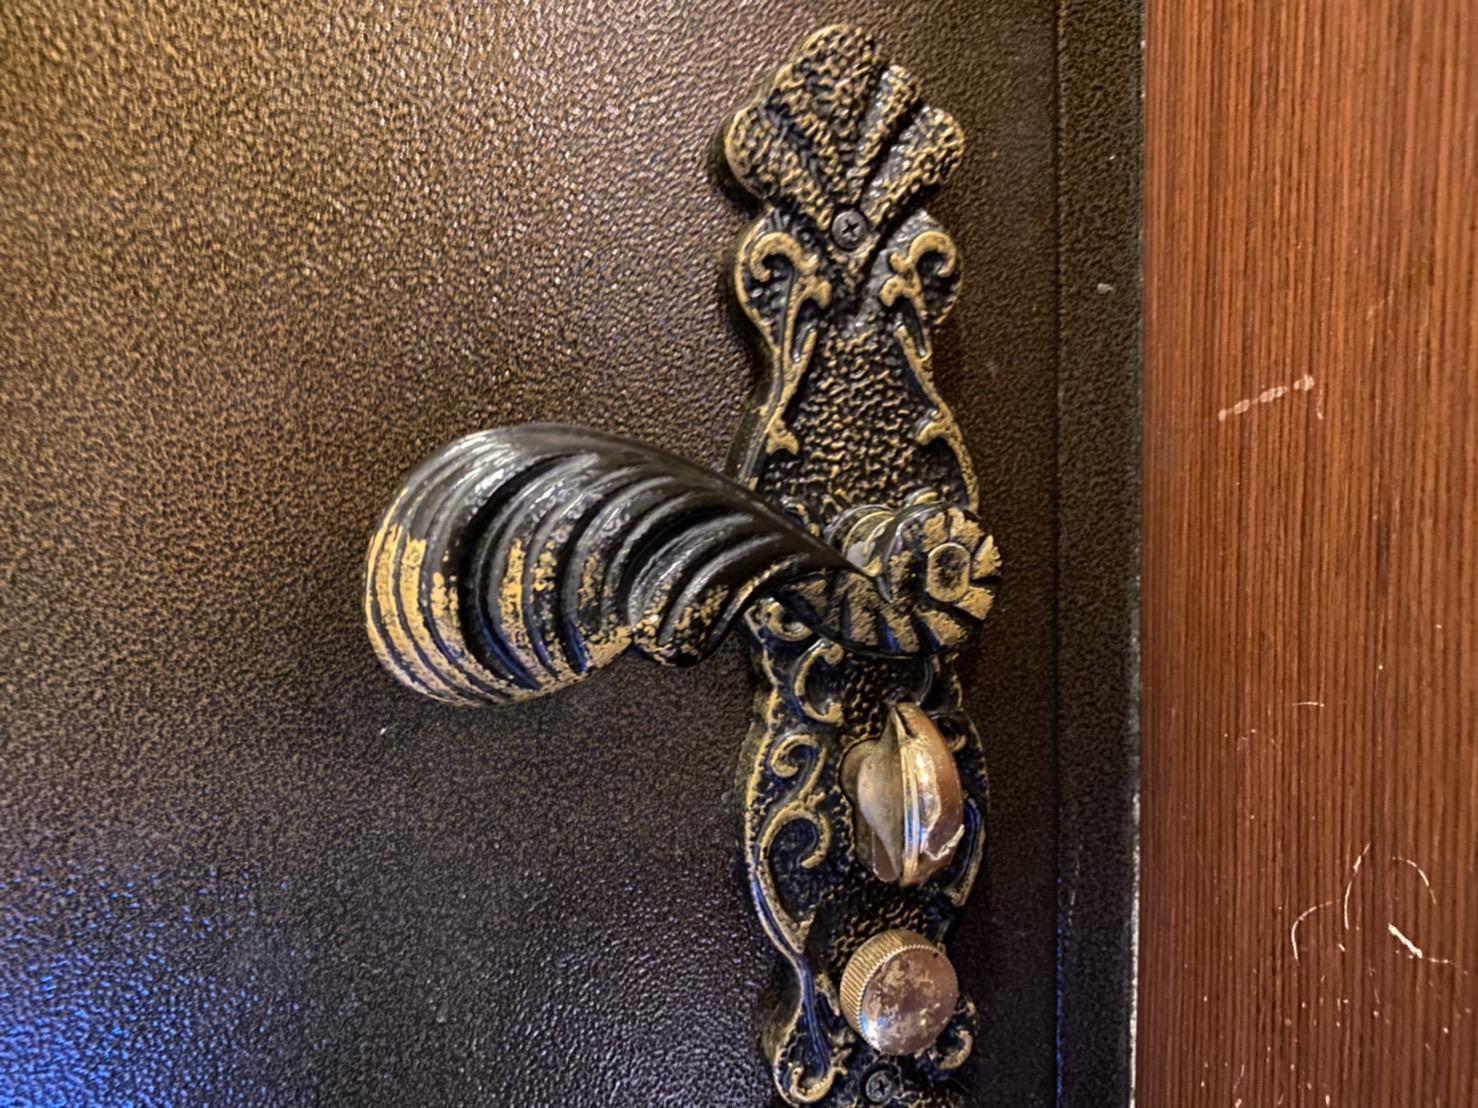doorhandle: (381, 33, 1117, 1102)
